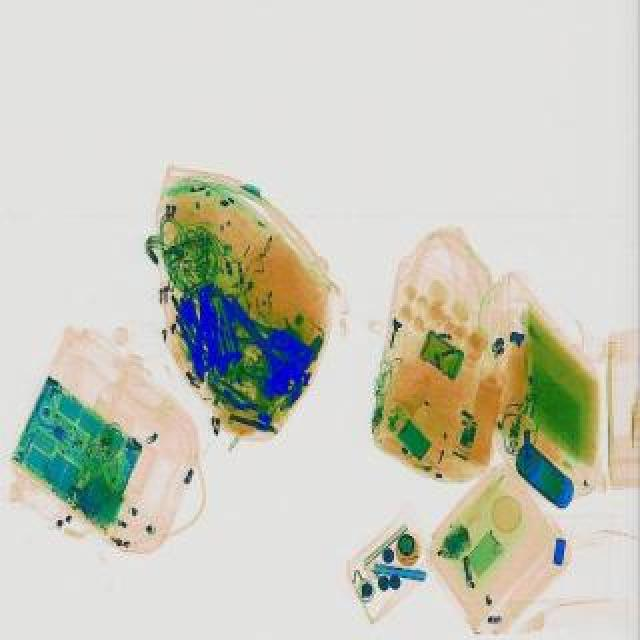scissors: (214, 286, 306, 390)
wrench: (174, 294, 214, 384)
